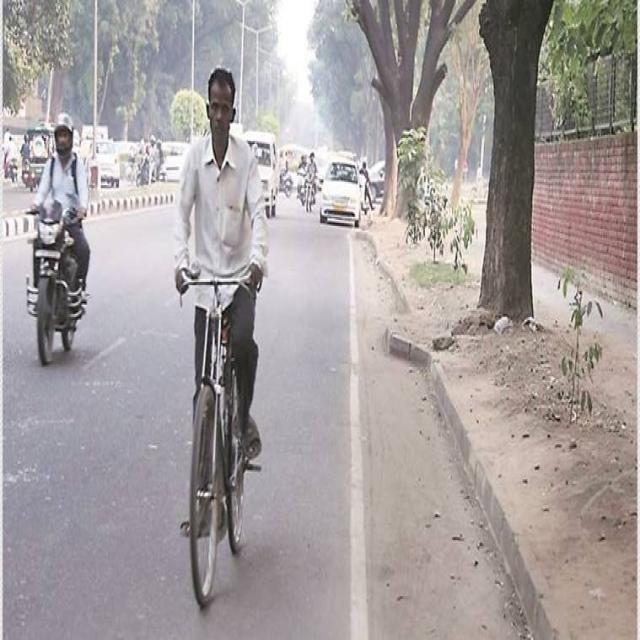bicycle: (175, 67, 268, 605)
car: (320, 157, 361, 226)
motorcycle: (28, 112, 90, 364)
